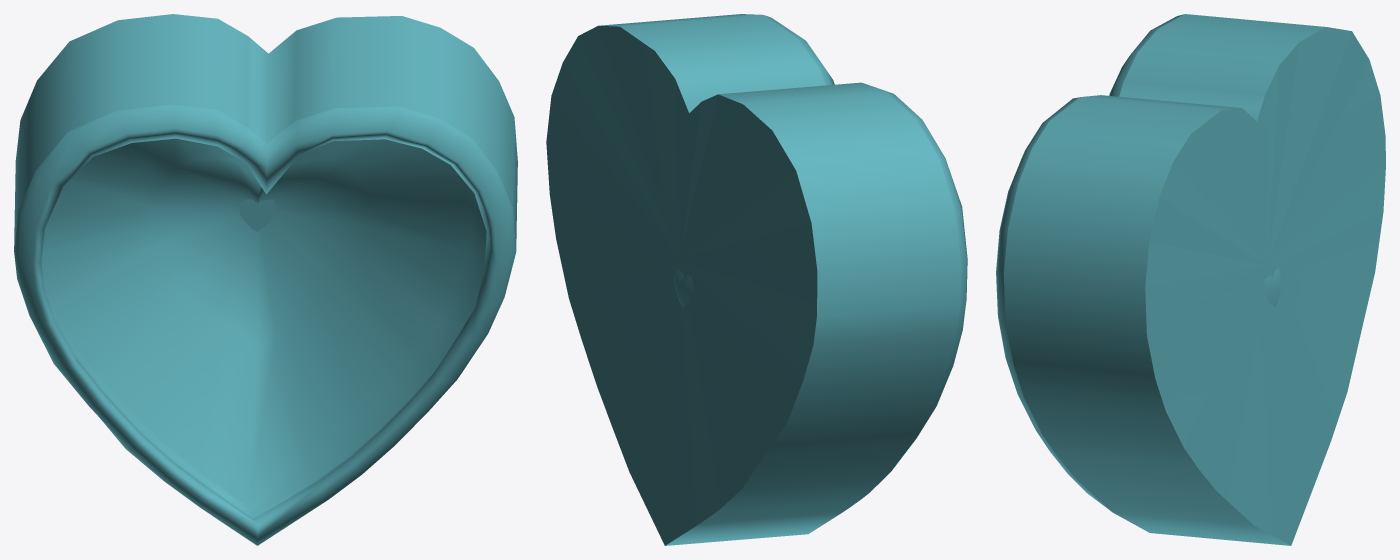
File: TL2_8shapes_heart_Classic_Metal.001 2.glb
3 renders of one model, left to right at view 1: azimuth 30°, elevation 25°; view 2: azimuth 150°, elevation 25°; view 3: azimuth 270°, elevation 25°, orthographic.
Visible parts, largest first — view 1: TL2_8shapes_heart_Classic_Metal.001; view 2: TL2_8shapes_heart_Classic_Metal.001; view 3: TL2_8shapes_heart_Classic_Metal.001.
Boxes of the visible parts, x1=… form: TL2_8shapes_heart_Classic_Metal.001: x1=14, y1=14, x2=517, y2=545; TL2_8shapes_heart_Classic_Metal.001: x1=546, y1=14, x2=967, y2=545; TL2_8shapes_heart_Classic_Metal.001: x1=996, y1=14, x2=1385, y2=545.
Bounding box in the file's own units: 0.5694 × 0.5717 × 0.4156.
